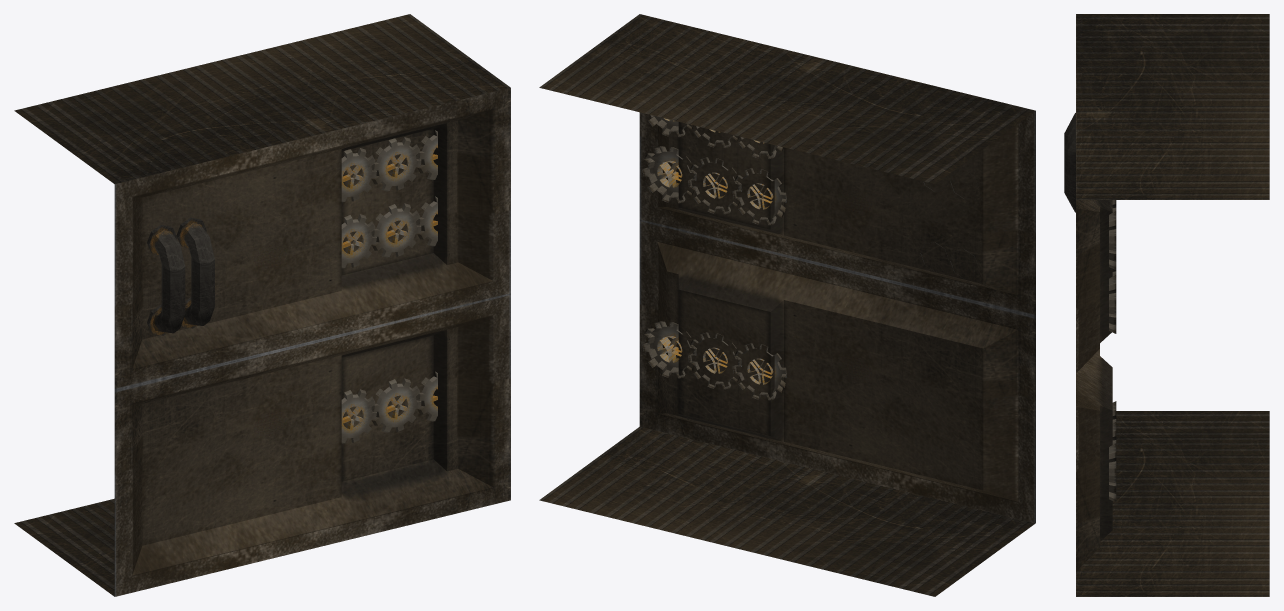
The model's file is floorDouble1.fbx.
3 renders of one model, left to right at view 1: azimuth 30°, elevation 25°; view 2: azimuth 150°, elevation 25°; view 3: azimuth 270°, elevation 25°, orthographic. The views are drawn at different scales.
Parts seen in each view (by area): view 1: polySurface1; view 2: polySurface1; view 3: polySurface1.
Part boxes in pixels (x1,y1,x2,y2): polySurface1: [14, 14, 510, 596]; polySurface1: [539, 14, 1035, 596]; polySurface1: [1064, 14, 1269, 596].
Size of the model in its own units: 16 by 15.92 by 7.47.
